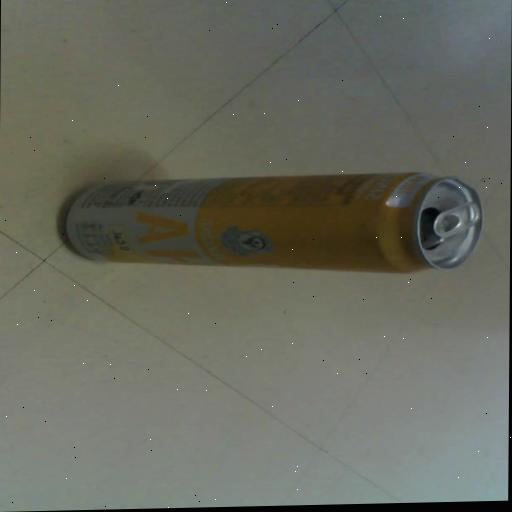canned: (45, 159, 500, 282)
